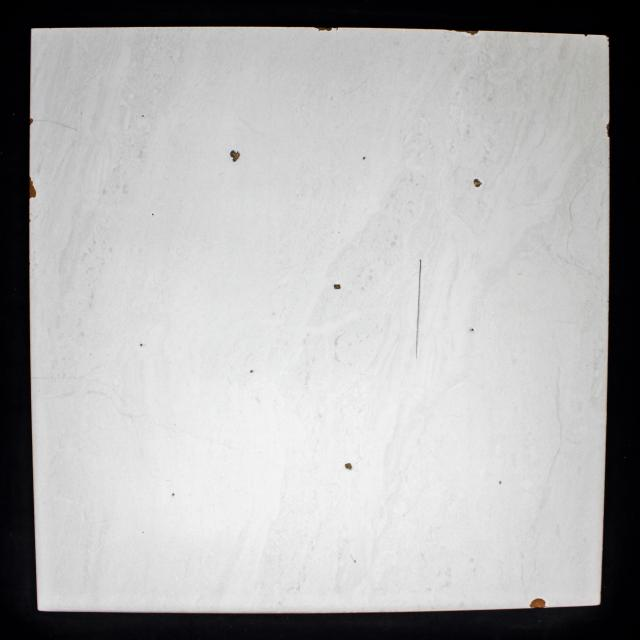edge-chipping: (530, 598, 546, 609), (28, 177, 36, 198), (450, 30, 480, 35), (313, 27, 332, 32), (606, 122, 610, 138), (29, 118, 33, 126), (584, 34, 588, 37)
hole: (230, 150, 240, 162), (473, 179, 483, 188), (344, 463, 353, 470), (333, 284, 341, 289), (362, 156, 366, 160), (470, 328, 474, 332), (151, 212, 154, 216), (499, 480, 502, 484), (141, 114, 144, 118), (140, 343, 143, 347), (172, 493, 175, 496), (250, 370, 253, 372)
line: (415, 260, 422, 359), (33, 117, 77, 130)
